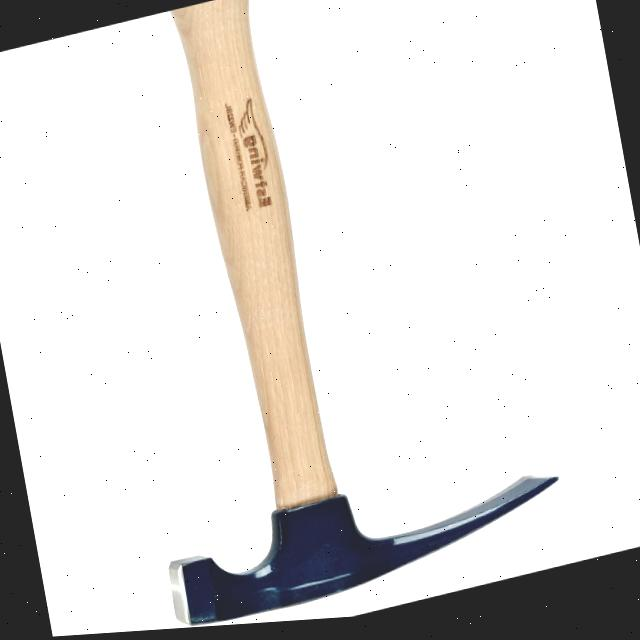hammer: (59, 0, 587, 637)
